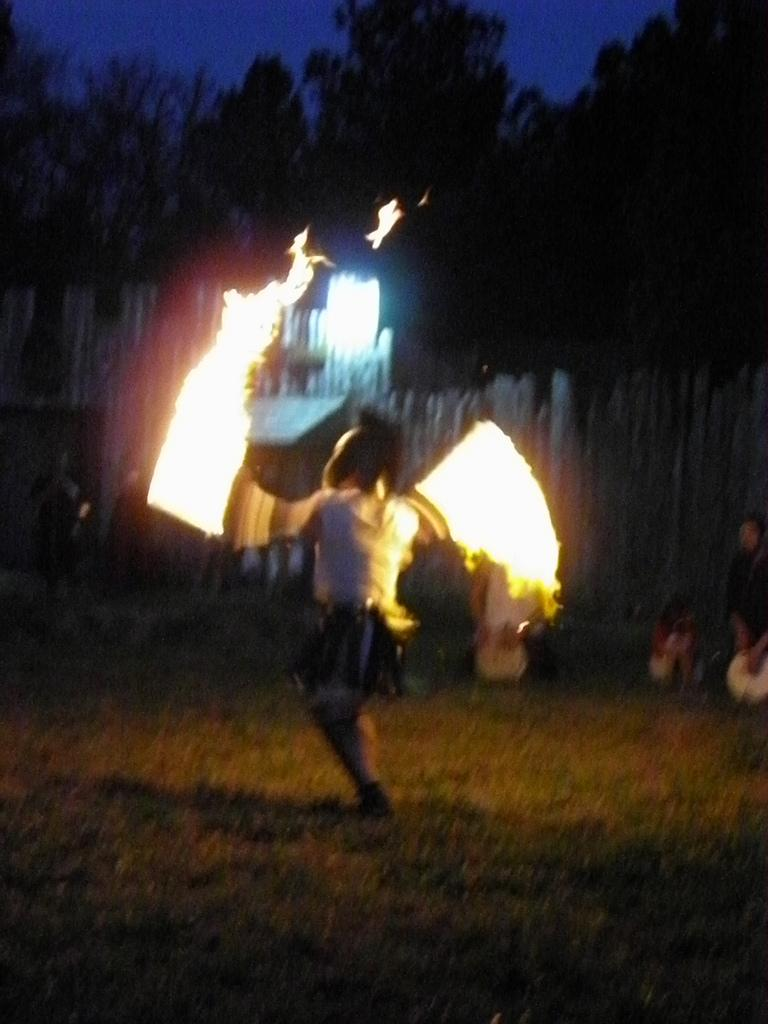fire: (145, 332, 250, 522), (435, 450, 565, 572)
